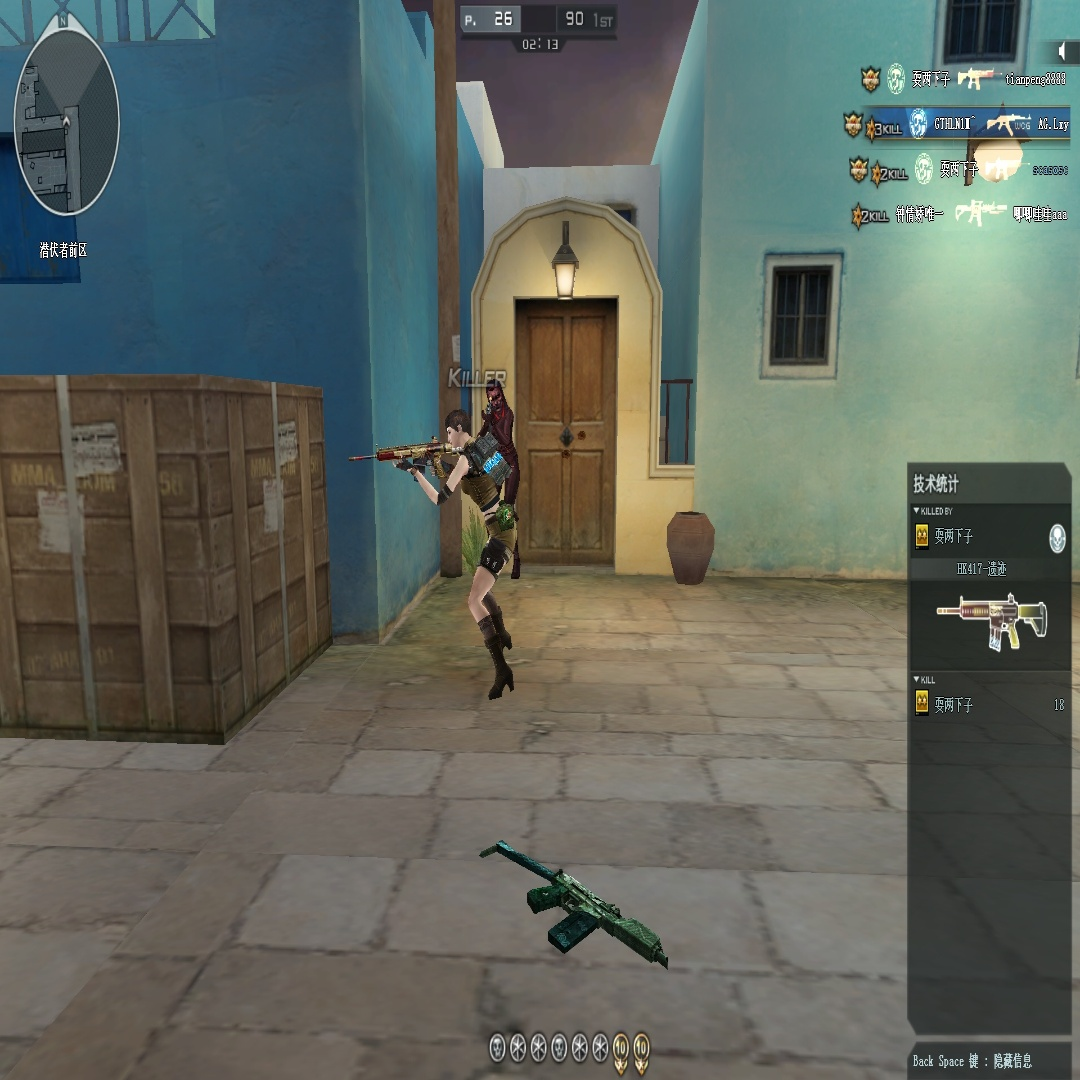head: (443, 408, 471, 456)
p: (432, 402, 510, 700)
